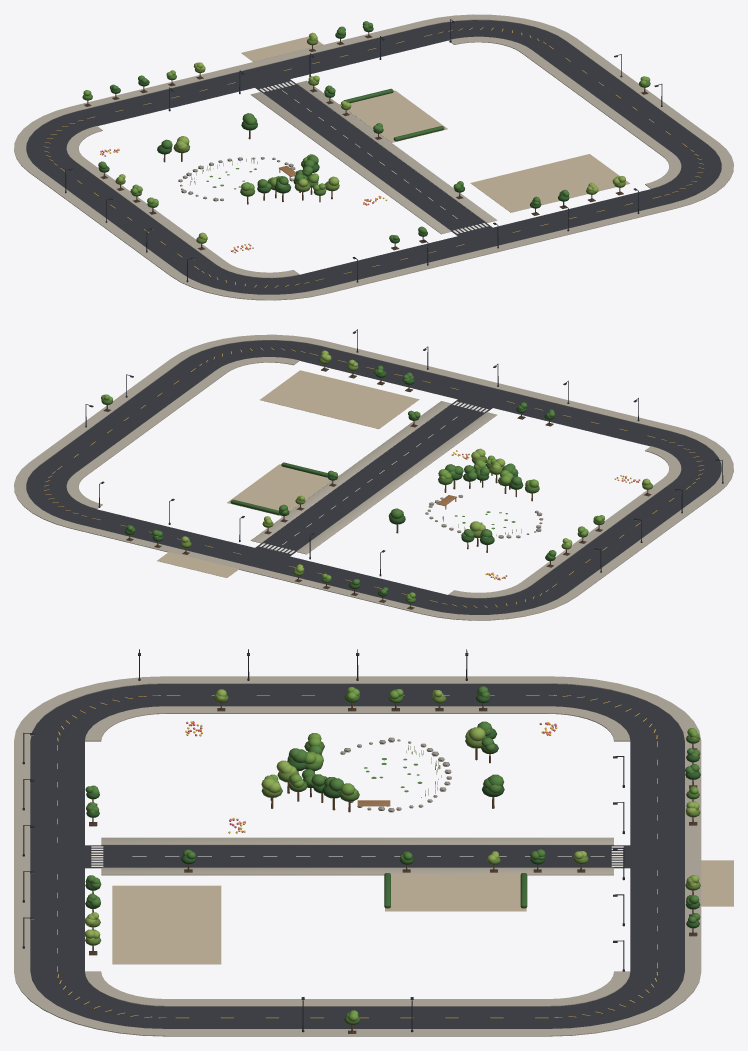
The model's file is district.glb.
The picture shows the model from 3 angles, top to bottom: view 1: azimuth 30°, elevation 25°; view 2: azimuth 150°, elevation 25°; view 3: azimuth 270°, elevation 25°; orthographic projection. The views are drawn at different scales.
Parts seen in each view (by area): view 1: roads, sidewalks, plazas, tree_leaf_a, tree_leaf_c, tree_leaf_b, lamp_posts, markings_yellow, tree_pits, hedges; view 2: roads, sidewalks, plazas, tree_leaf_a, tree_leaf_c, tree_leaf_b, lamp_posts, markings_yellow, tree_pits, hedges, tree_trunks; view 3: roads, sidewalks, plazas, tree_leaf_a, tree_leaf_c, tree_leaf_b, lamp_posts, markings_yellow, markings_white, tree_trunks.
Boxes of the visible parts, box(x1,y1,x2,y2) form: roads: box(26, 20, 721, 294); sidewalks: box(14, 14, 733, 300); plazas: box(241, 36, 629, 212); tree_leaf_a: box(98, 21, 569, 243); tree_leaf_c: box(115, 32, 625, 243); tree_leaf_b: box(82, 70, 650, 207); lamp_posts: box(65, 19, 662, 282); markings_yellow: box(44, 27, 703, 287); tree_pits: box(84, 35, 648, 250); hedges: box(344, 88, 444, 141); roads: box(26, 340, 721, 614); sidewalks: box(14, 334, 733, 620); plazas: box(157, 370, 419, 577); tree_leaf_a: box(125, 365, 556, 596); tree_leaf_c: box(180, 350, 652, 575); tree_leaf_b: box(101, 394, 604, 603); lamp_posts: box(85, 329, 723, 576); markings_yellow: box(44, 347, 703, 607); tree_pits: box(103, 368, 651, 609); hedges: box(230, 462, 328, 515); tree_trunks: box(106, 364, 648, 608); roads: box(30, 684, 684, 1028); sidewalks: box(14, 676, 701, 1036); plazas: box(112, 860, 733, 964); tree_leaf_a: box(85, 686, 700, 928); tree_leaf_c: box(84, 689, 700, 945); tree_leaf_b: box(264, 687, 700, 1024); lamp_posts: box(22, 649, 624, 1032); markings_yellow: box(57, 695, 657, 1018); markings_white: box(91, 846, 623, 866); tree_trunks: box(92, 702, 693, 1032).
Size of what is drawn, in the model's own units: 156 by 7.57 by 132.
